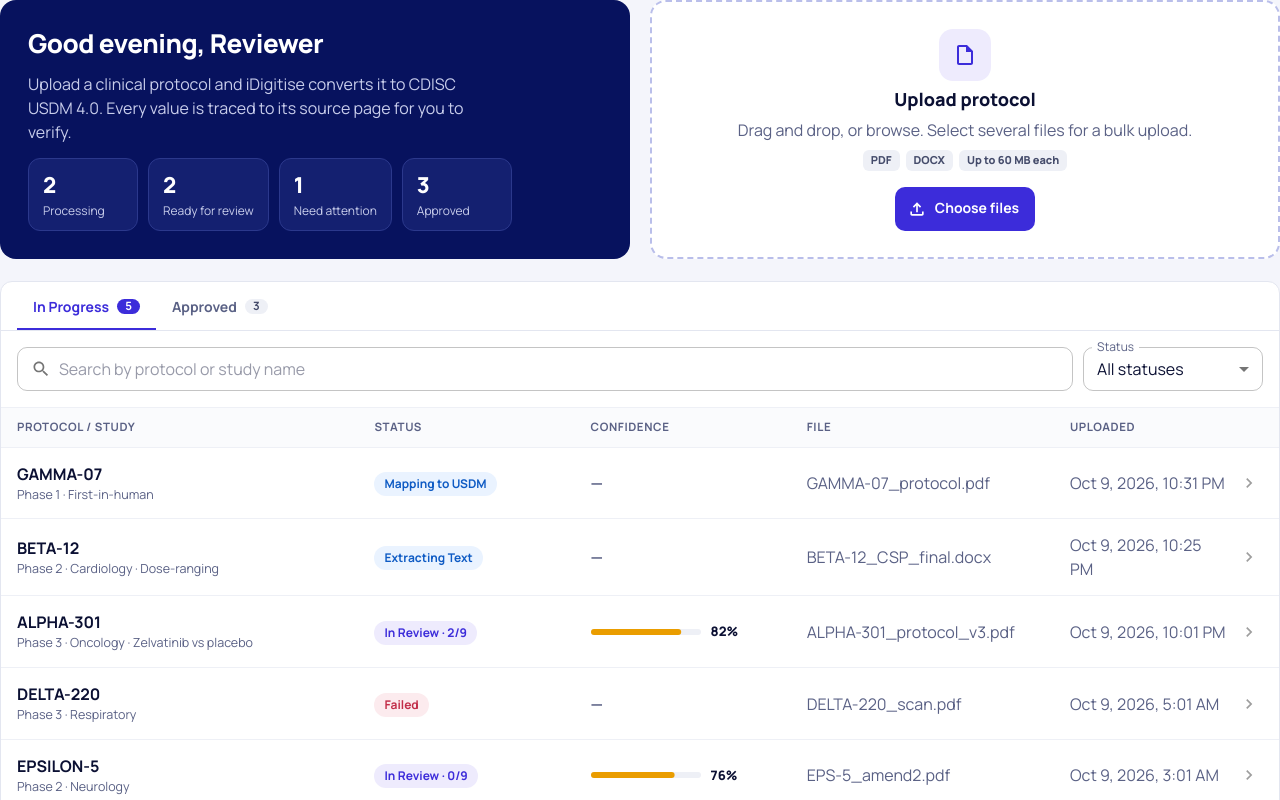
Test: HomePage › lists the approved protocols on their own tab
The image size is (1280, 800).
Click the tab "Approved 3": (220, 306) [156, 282, 284, 330]
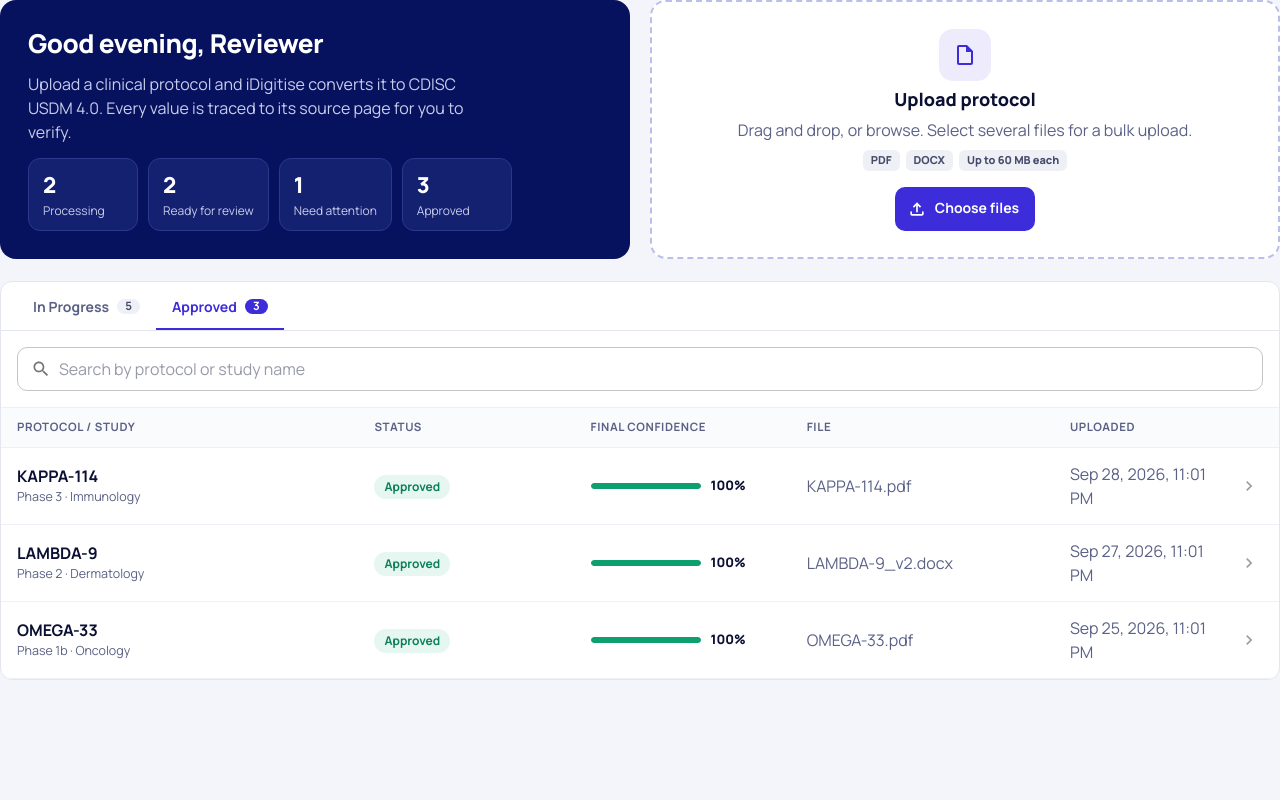
Check: the link "KAPPA-114" is shown, box [1, 448, 1279, 525]
Check: the link "ALPHA-301" is gone
